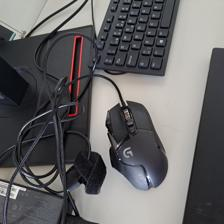mouse: (104, 98, 169, 192)
